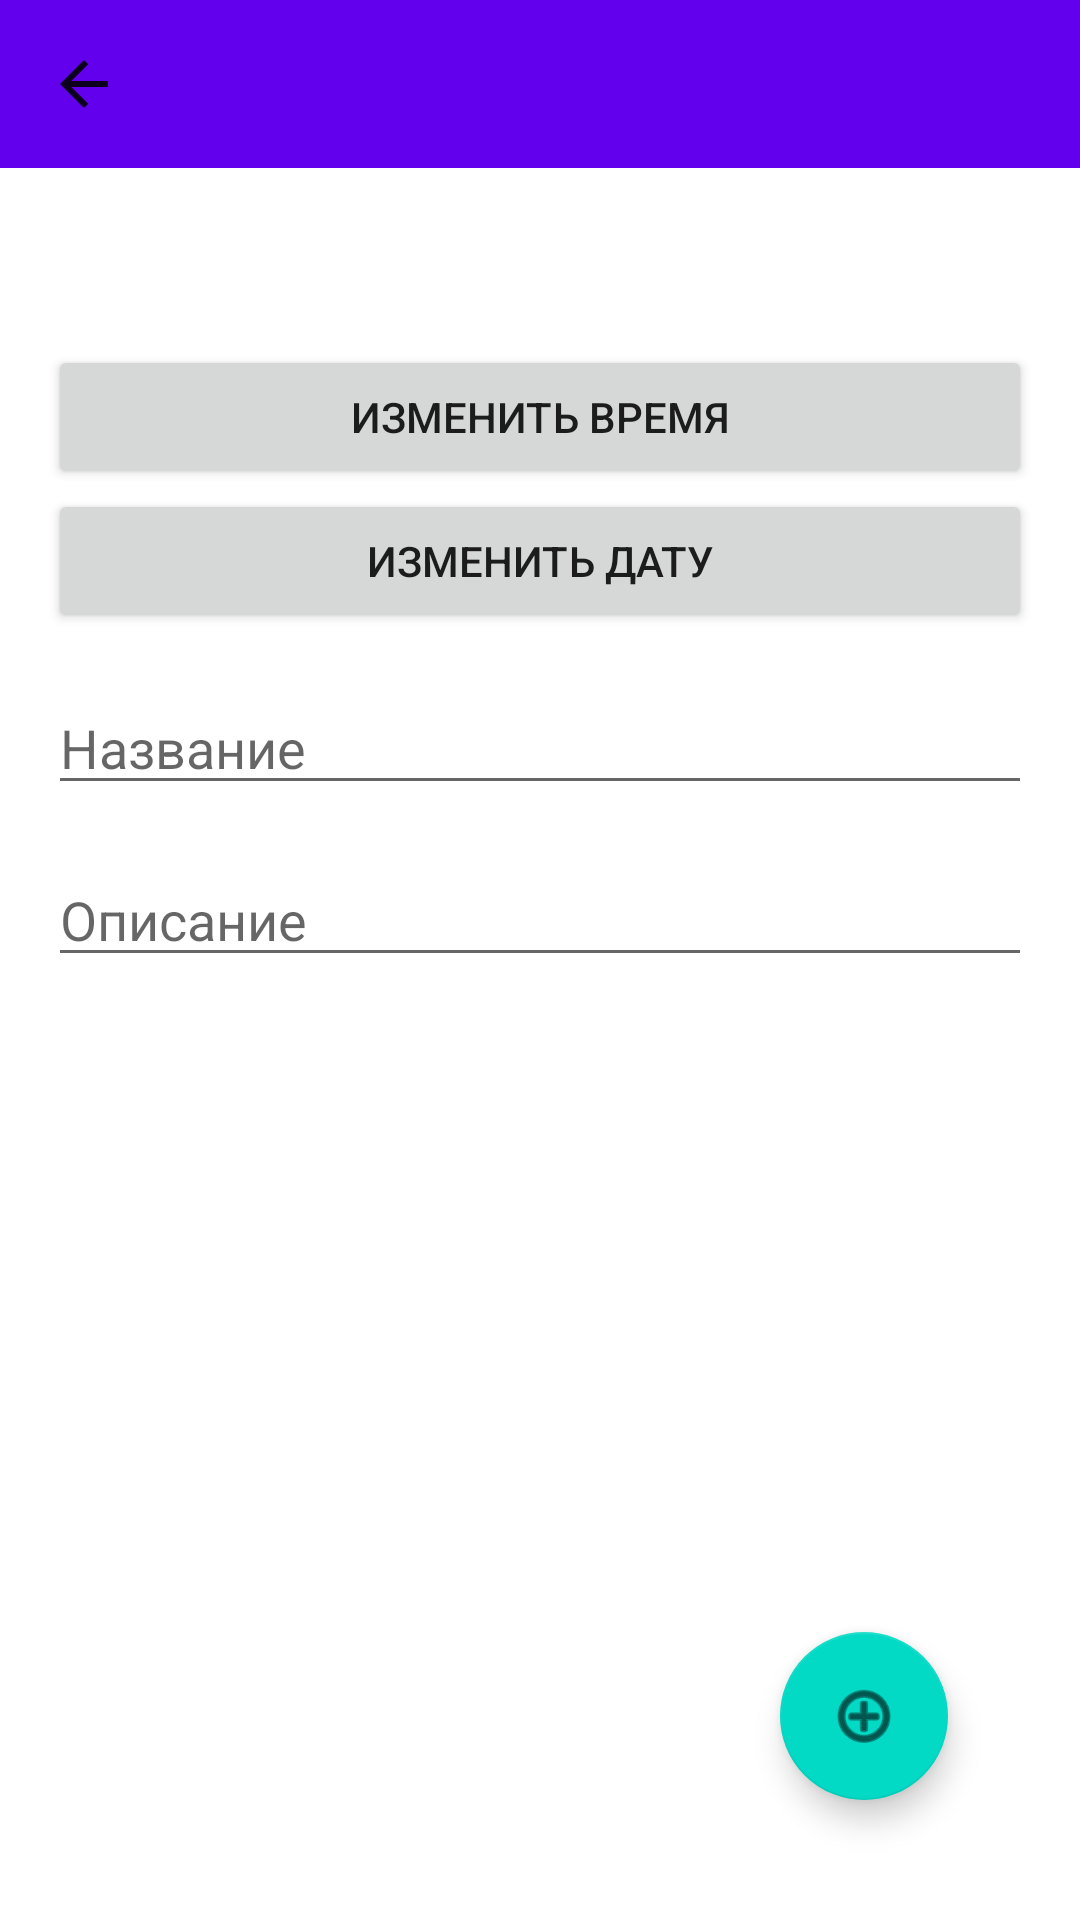

Point at icon controls on the screen. Image size 1080*1920, points as (x,y).
add: (864,1716)
